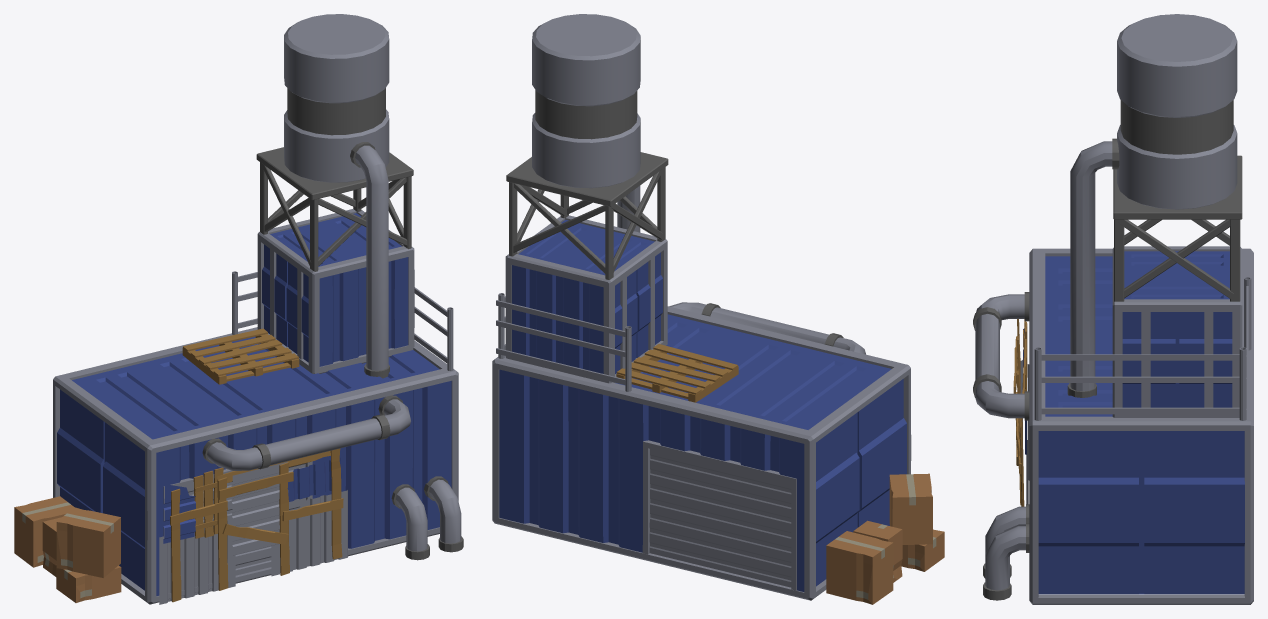
File: container-2.glb
3 views of the same model, side by side, from view 1: azimuth 30°, elevation 25°; view 2: azimuth 150°, elevation 25°; view 3: azimuth 270°, elevation 25° (orthographic). The views are drawn at different scales.
Visible parts, largest first — view 1: Structure_3; view 2: Structure_3; view 3: Structure_3.
Part boxes in pixels (box(x1,y1,x2,y2)): Structure_3: box(14, 14, 463, 604); Structure_3: box(492, 14, 944, 604); Structure_3: box(973, 14, 1253, 604).
Bounding box in the file's own units: 7.87 × 9.52 × 4.52.
